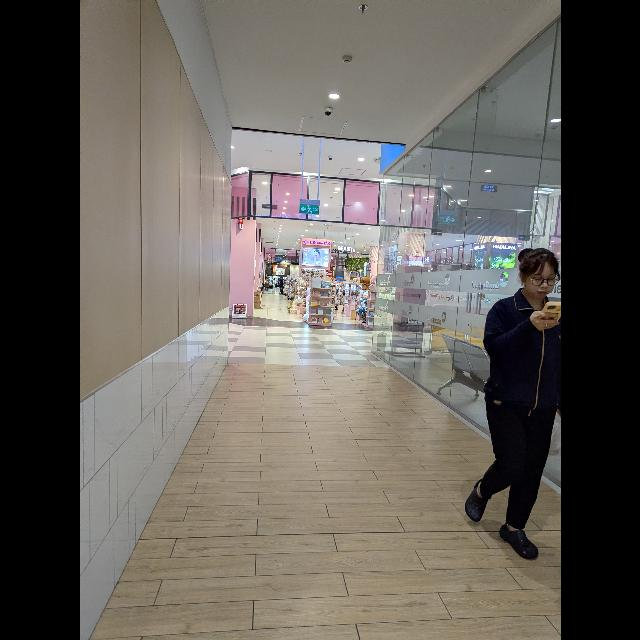exit: (299, 203, 319, 214)
